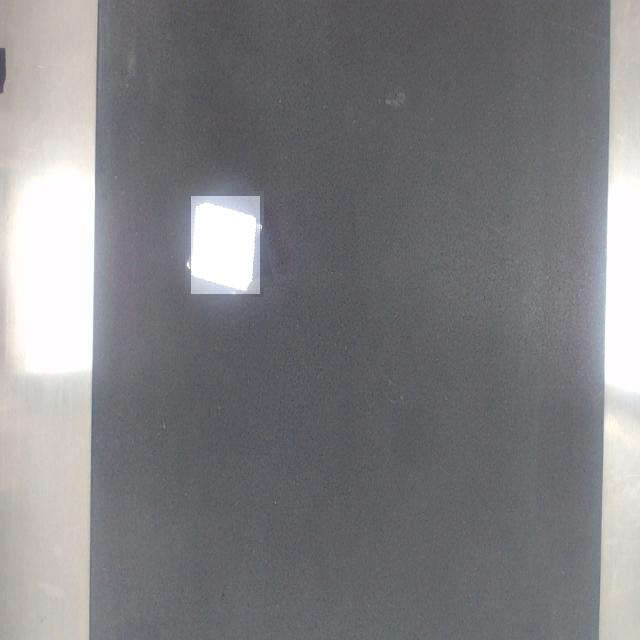Blanco: (192, 197, 260, 294)
